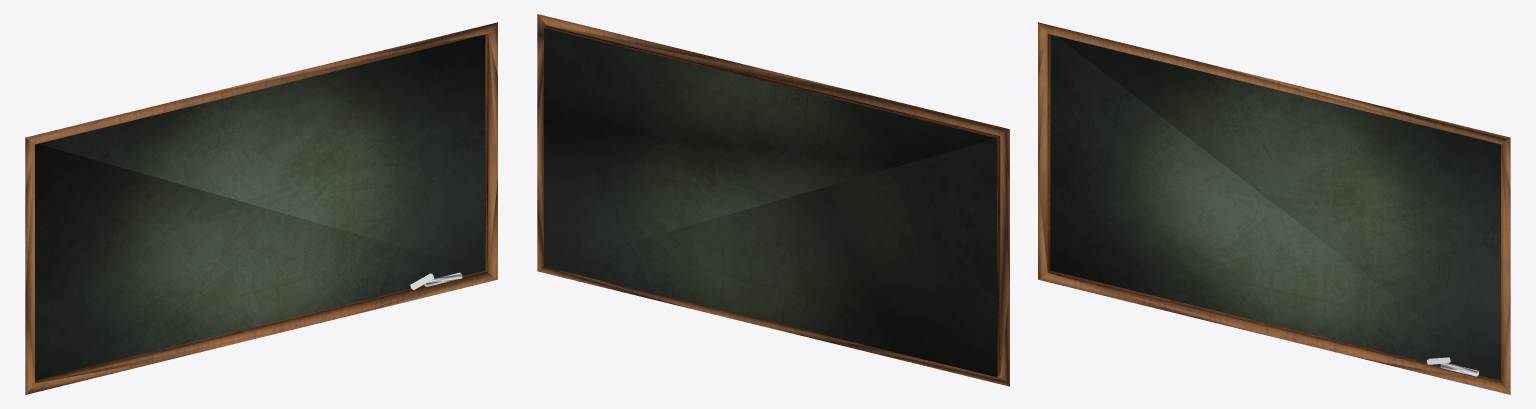
Rendered from classroom_chalkboard_v3.fbx.
The picture shows the model from 3 angles, left to right: view 1: azimuth 30°, elevation 25°; view 2: azimuth 150°, elevation 25°; view 3: azimuth 330°, elevation 25°; orthographic projection.
Parts seen in each view (by area): view 1: pCube13; view 2: pCube13; view 3: pCube13.
Boxes of the visible parts, <box> form: pCube13: <box>25,22,497,394</box>; pCube13: <box>537,14,1009,386</box>; pCube13: <box>1038,22,1510,394</box>.
Size of the model in its own units: 1153 by 600 by 47.91.
Materials: 3 (2 with a texture image).
